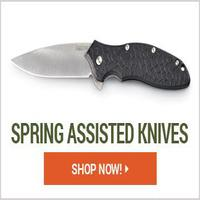knife: (6, 34, 196, 97)
